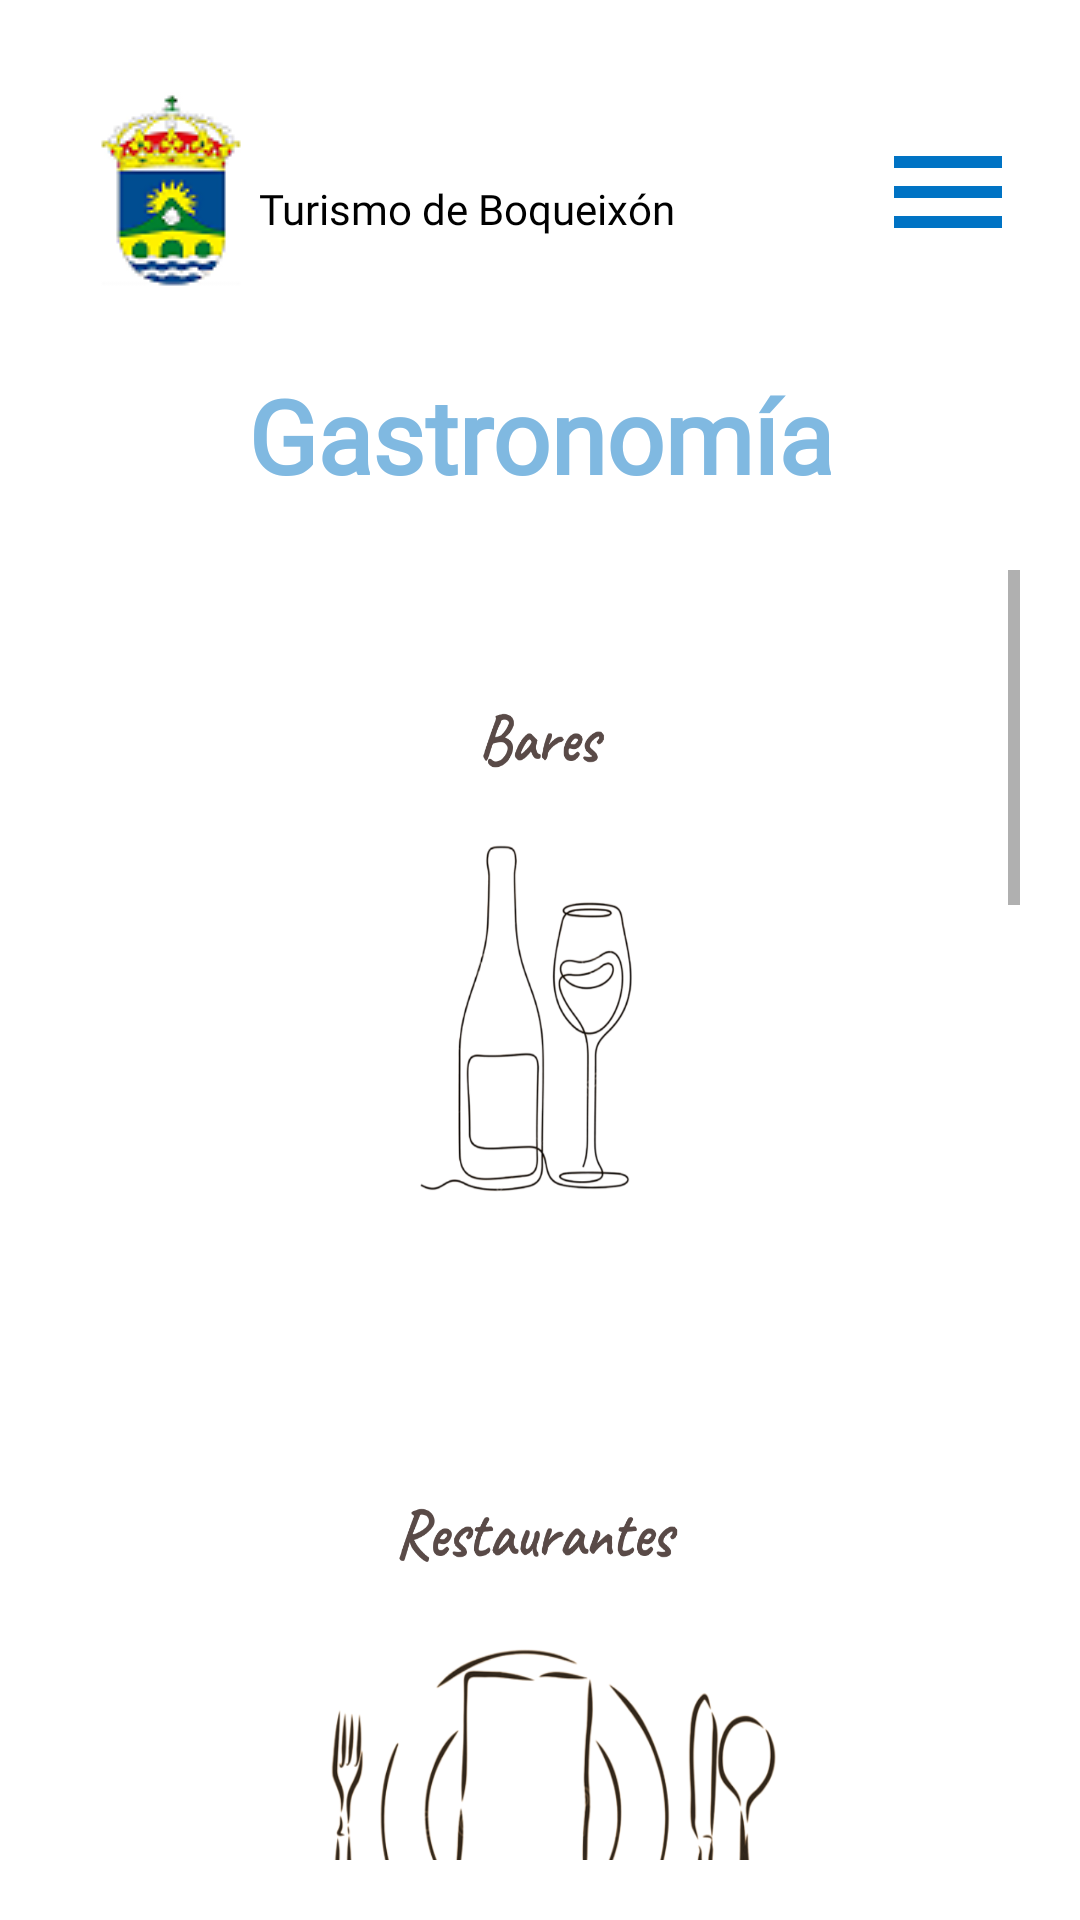

Locate icon controls on the screen. Image size 1080px×1920px, boxes as (x1, y1, x2, y2).
hamburguesa: (894, 156, 1002, 228)
